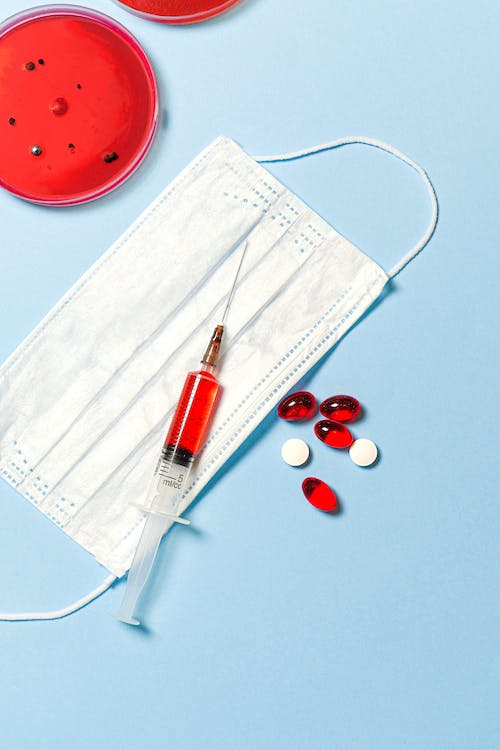blood: (0, 0, 162, 211), (156, 320, 227, 468), (109, 0, 251, 29)
